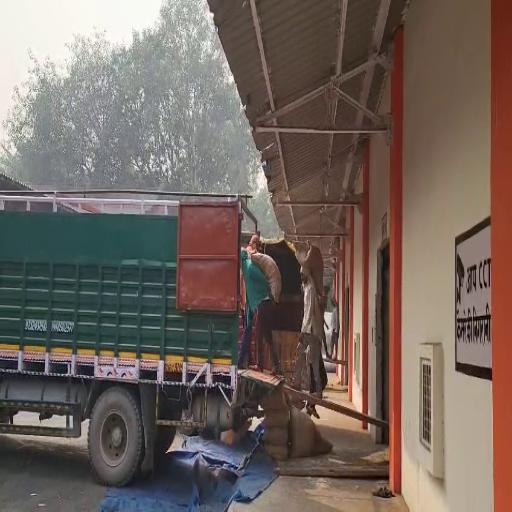bag: (289, 231, 328, 294)
